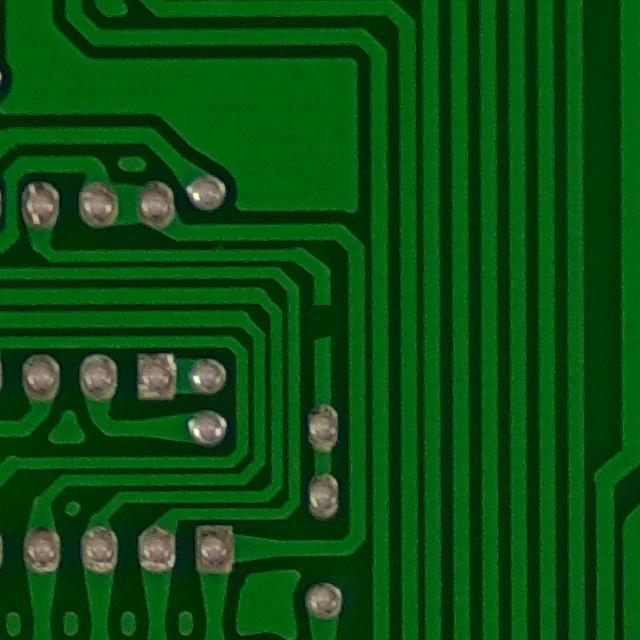open_circuit: (302, 291, 339, 350)
